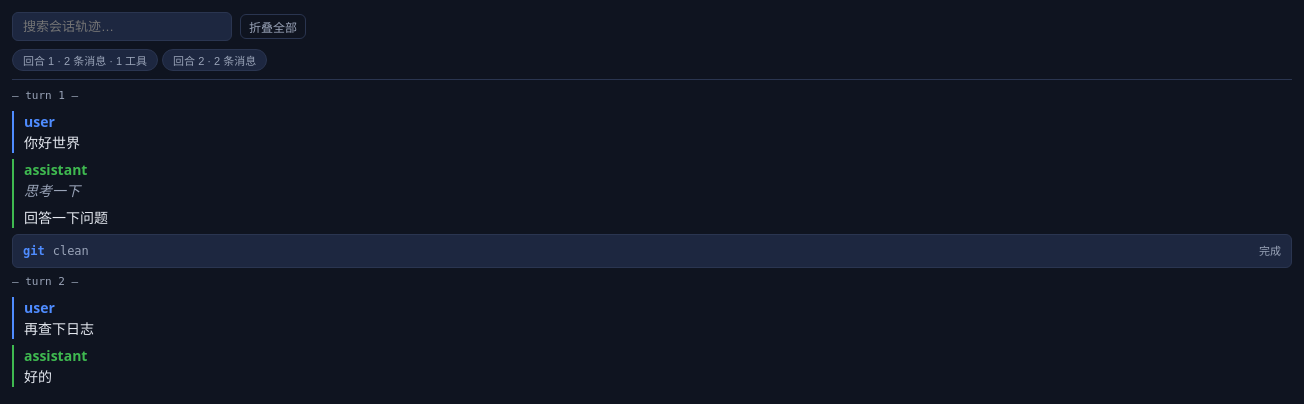
Test case: Trajectory collapse › collapses every turn into a summary row and expands on click
This screenshot has width=1304, height=404.
Click the button "折叠全部".
click(273, 26)  # box [240,14,306,39]
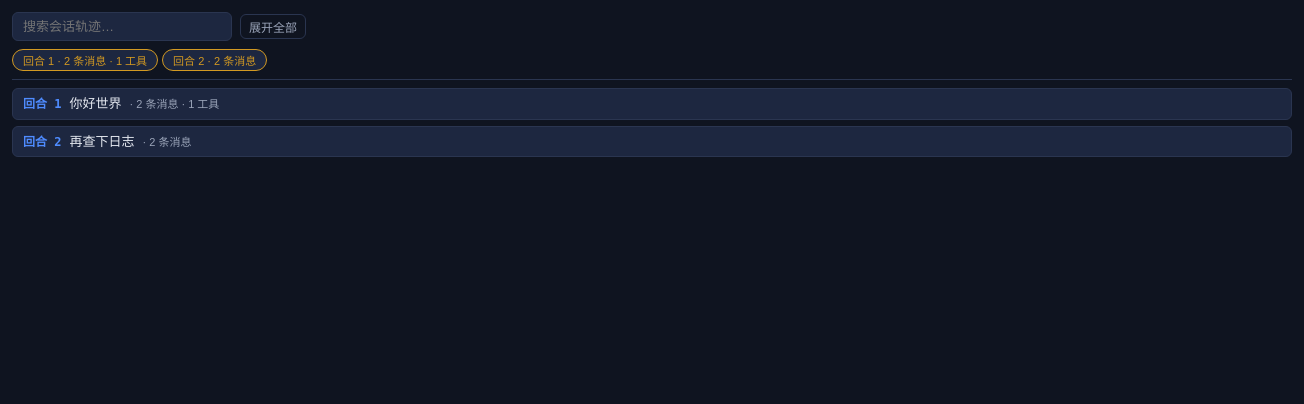
expect the text "你好世界" is shown: met, box [70,94,122,114]
expect the number of buttons with class "summary" is 2: met
expect the text "回答一下问题" is gone: met
Click the button with class "summary" showing "回合 1 你好世界 · 2 条消息 · 1 工具".
click(39, 104)  # box [12,88,1292,120]
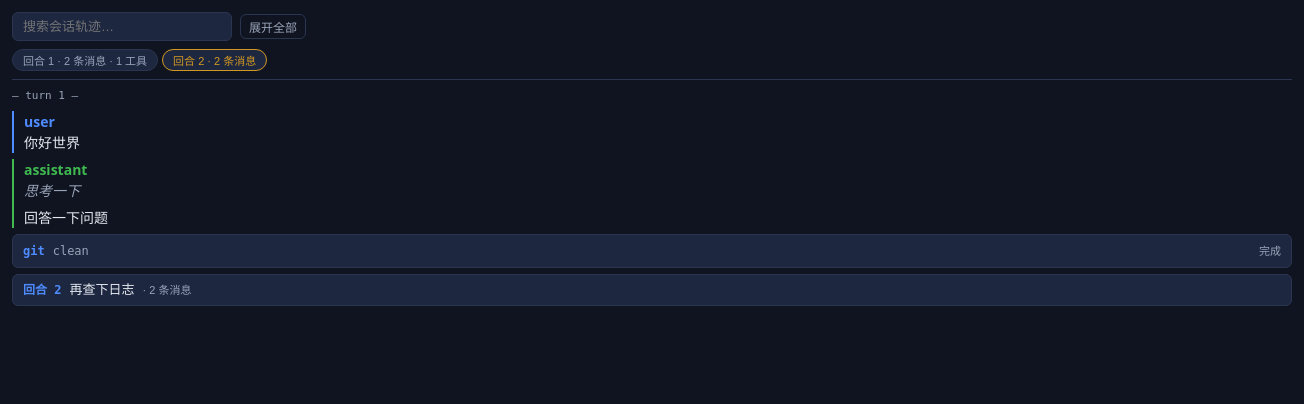
expect the number of buttons with class "summary" is 1: met, box [12,274,1292,306]
expect the text "回答一下问题" is shown: met, box [24,208,108,226]
